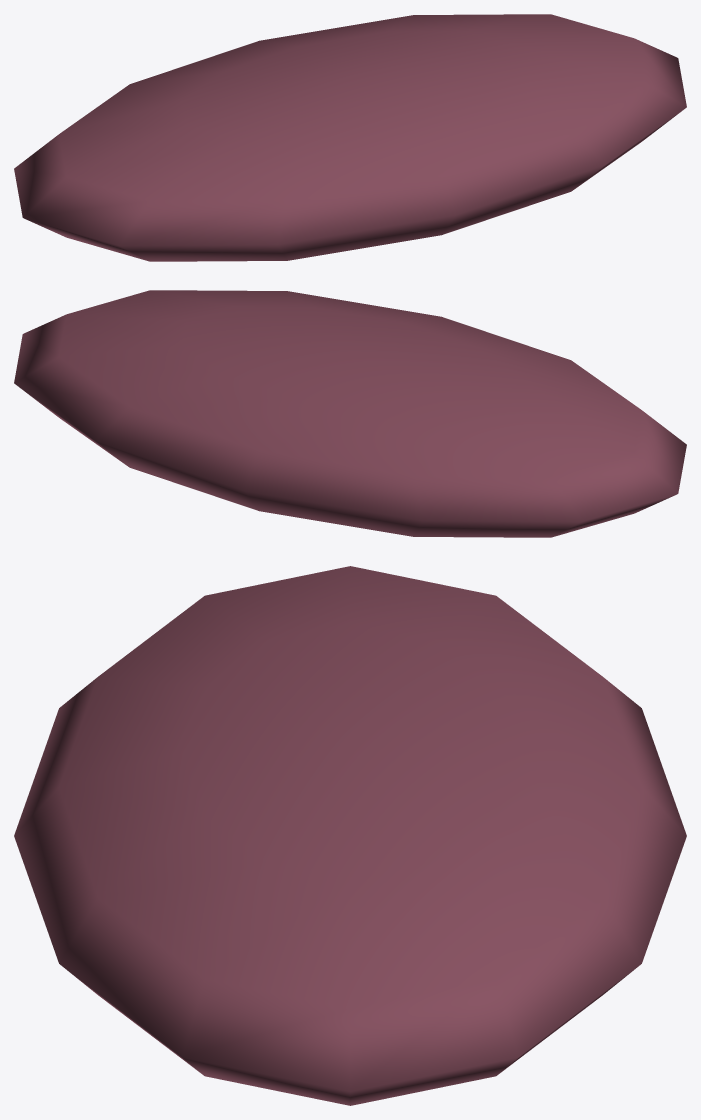
File: soap.fbx
3 views of the same model, one above another, from view 1: azimuth 30°, elevation 25°; view 2: azimuth 150°, elevation 25°; view 3: azimuth 270°, elevation 25° (orthographic). The views are drawn at different scales.
Parts seen in each view (by area): view 1: soap; view 2: soap; view 3: soap.
Boxes of the visible parts, x1,y1,x2,y2 form: soap: (14,14,686,261); soap: (14,290,686,537); soap: (14,566,686,1105).
Bounding box in the file's own units: 0.2138 × 0.038 × 0.119.
